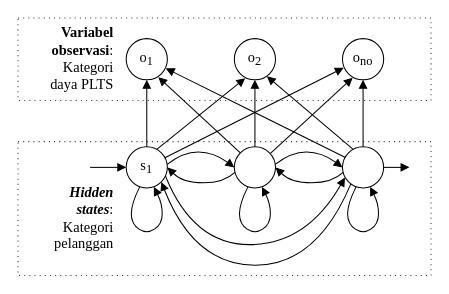
This 449x294 diagram has some shape labels left out. The centre of each missing label's shape, as x and y in pixels:
"s 2" goes at [254,167].
"s ns" goes at [362,167].
